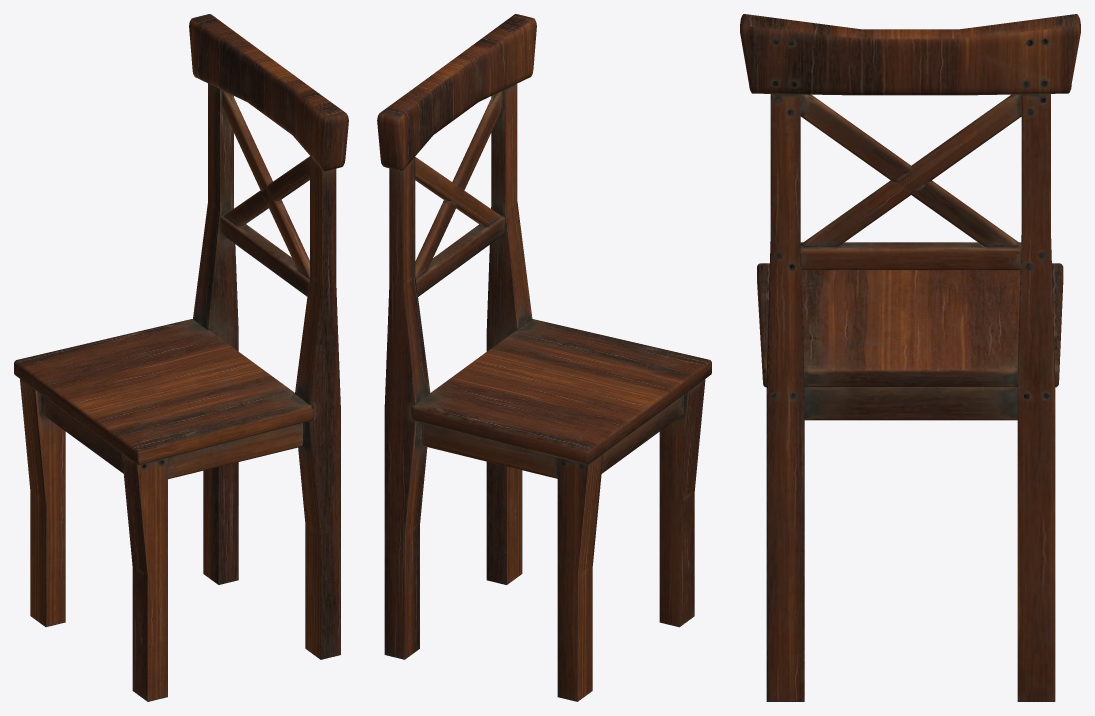
The model's file is chair-transformed.glb.
3 views of the same model, side by side, from view 1: azimuth 30°, elevation 25°; view 2: azimuth 150°, elevation 25°; view 3: azimuth 270°, elevation 25° (orthographic). The views are drawn at different scales.
Visible parts, largest first — view 1: Object_2; view 2: Object_2; view 3: Object_2.
Part boxes in pixels (left/top/right/bottom): Object_2: left=14, top=14, right=348, bottom=701; Object_2: left=377, top=14, right=711, bottom=701; Object_2: left=740, top=14, right=1080, bottom=701.
Size of the model in its own units: 0.4195 by 1.03 by 0.4731.
Materials: 1 (1 with a texture image).
